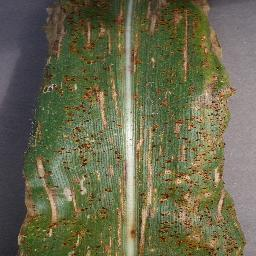Gray_Leaf_Spot: (4, 0, 256, 255)
